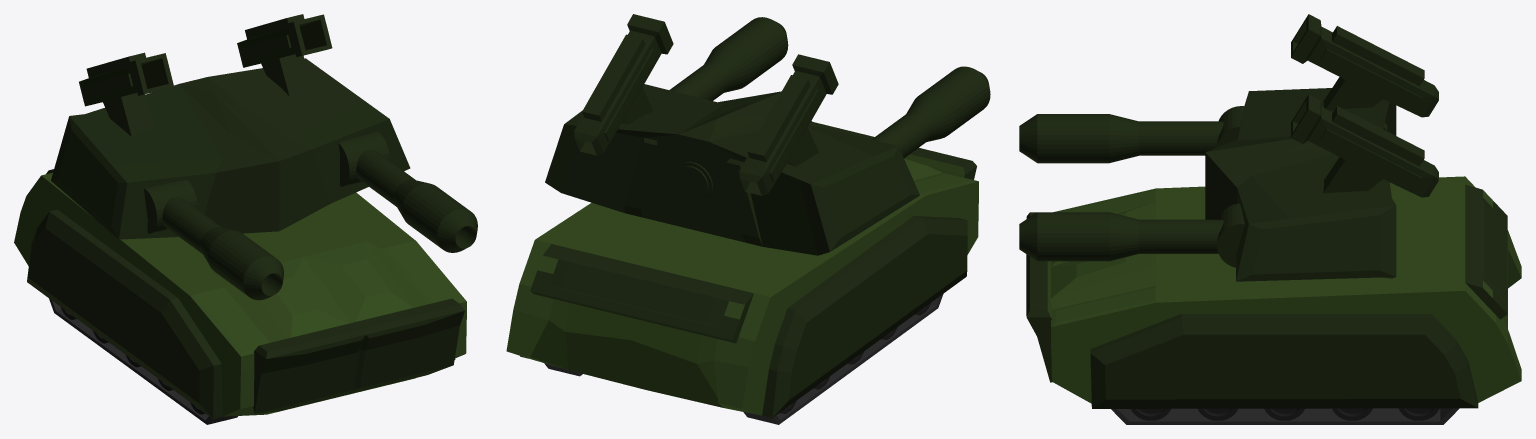
Rendered from tier3.obj.
3 views of the same model, side by side, from view 1: azimuth 30°, elevation 25°; view 2: azimuth 150°, elevation 25°; view 3: azimuth 270°, elevation 25° (orthographic). The views are drawn at different scales.
Parts seen in each view (by area): view 1: Body12_Cube.047, Turret12_Cube.058, Main_Gun12_Cube.059, Tracks12_Cube.045; view 2: Body12_Cube.047, Turret12_Cube.058, Main_Gun12_Cube.059, Tracks12_Cube.045; view 3: Body12_Cube.047, Turret12_Cube.058, Main_Gun12_Cube.059, Tracks12_Cube.045, Road_Wheels12_Cube.046.
Boxes of the visible parts, x1=… form: Body12_Cube.047: x1=14, y1=169, x2=466, y2=418; Turret12_Cube.058: x1=51, y1=14, x2=410, y2=239; Main_Gun12_Cube.059: x1=143, y1=131, x2=477, y2=300; Tracks12_Cube.045: x1=49, y1=298, x2=237, y2=424; Body12_Cube.047: x1=506, y1=122, x2=978, y2=417; Turret12_Cube.058: x1=545, y1=14, x2=919, y2=255; Main_Gun12_Cube.059: x1=669, y1=17, x2=990, y2=158; Tracks12_Cube.045: x1=544, y1=294, x2=943, y2=424; Body12_Cube.047: x1=1026, y1=176, x2=1521, y2=408; Turret12_Cube.058: x1=1205, y1=14, x2=1438, y2=281; Main_Gun12_Cube.059: x1=1019, y1=106, x2=1244, y2=267; Tracks12_Cube.045: x1=1111, y1=408, x2=1459, y2=424; Road_Wheels12_Cube.046: x1=1130, y1=408, x2=1439, y2=420.
Bounding box in the file's own units: 4.65 × 4.51 × 6.68.
